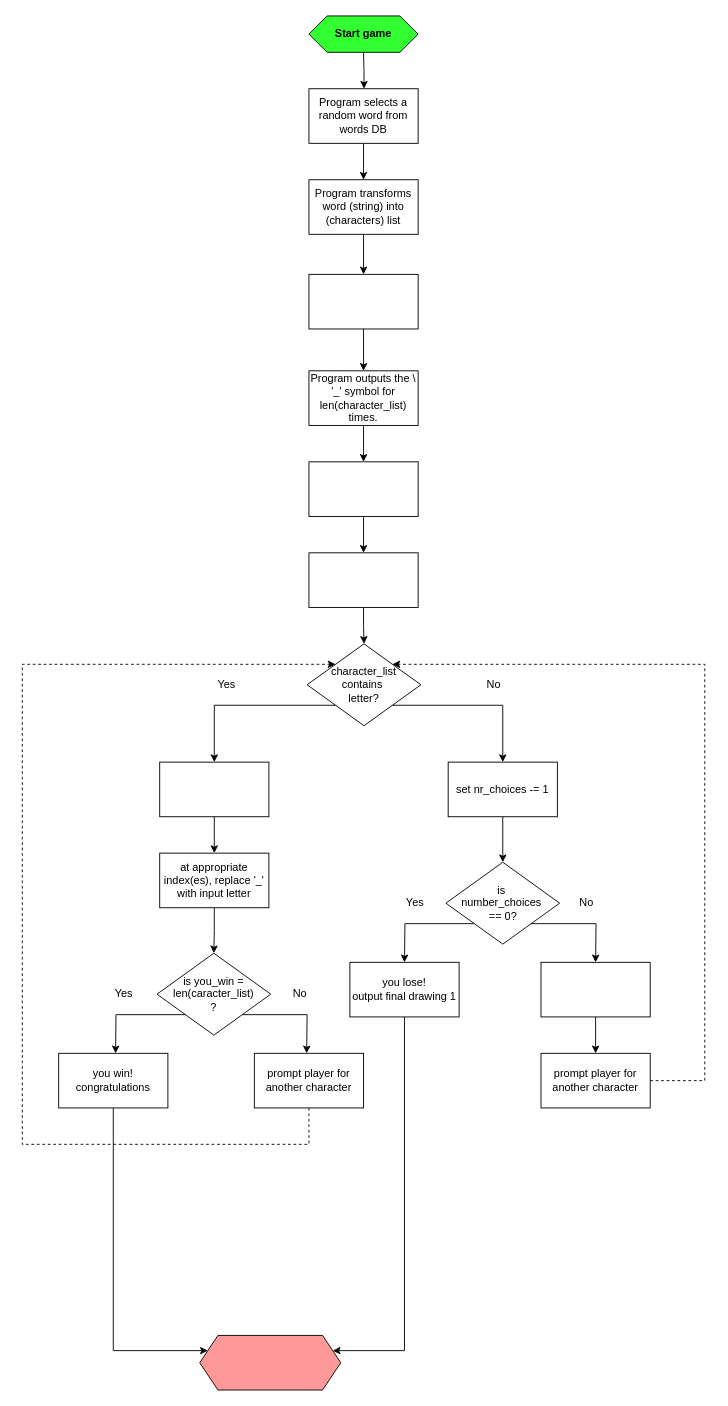
The diagram is 728 pixels wide and 1406 high, and some of its shapes have lost their labels. Here are the shapes that lost their labels. From the top down, the box of each, then its label:
(308, 273, 418, 329): Program calculats len(character_list)
(308, 461, 418, 516): set nr_choices = 7 set you_win = 0
(308, 552, 418, 607): Program prompts player to input a letter
(159, 761, 269, 817): find the index(es) of the letter in character_list
(540, 961, 650, 1017): output hangman drawing[nr_choices]
(199, 1335, 341, 1390): GAME OVER
